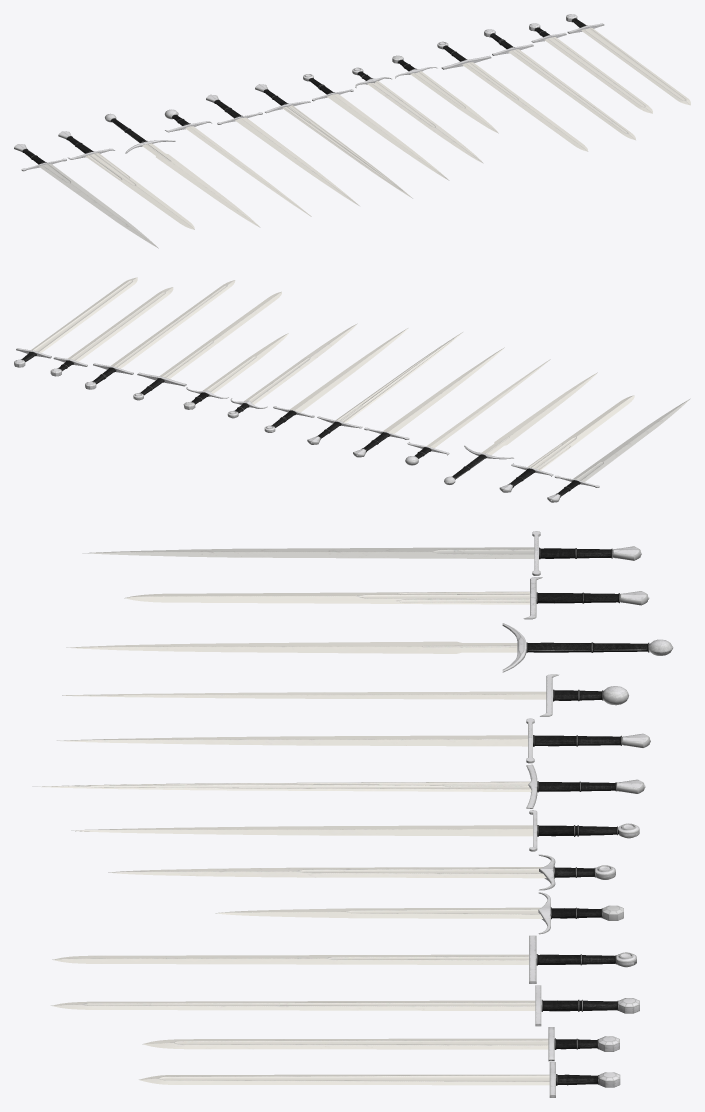
File: medieval_sword_pack.glb
3 views of the same model, one above another, from view 1: azimuth 30°, elevation 25°; view 2: azimuth 150°, elevation 25°; view 3: azimuth 270°, elevation 25° (orthographic). The views are drawn at different scales.
Visible parts, largest first — view 1: Type XIIIA_Type_Xiiia_Texture_0, Type XIIA_Type_Xiia_Texture_0, Type XX_Type_Xx_Texture_0, Type XVIIIE_Type_Xviiie_Texture_0, Type XXA_Type_XxaTexture_0, Type XVIIIB_Type_Xviiib_Texture_0, Type XA_Type_Xa_Texture_0, Type X_Type_X_Texture_0, Type XVII_Type_Xvii_Texture_0, Type XVA_Type_Xva_Texture_0, Type XV_Type_Xv_Texture_0, Type XVIIID_Type_Xviiid_Texture_0 (+1 smaller); view 2: Type XIIIA_Type_Xiiia_Texture_0, Type XIIA_Type_Xiia_Texture_0, Type XX_Type_Xx_Texture_0, Type XVIIIE_Type_Xviiie_Texture_0, Type XXA_Type_XxaTexture_0, Type XVIIIB_Type_Xviiib_Texture_0, Type X_Type_X_Texture_0, Type XA_Type_Xa_Texture_0, Type XVII_Type_Xvii_Texture_0, Type XVA_Type_Xva_Texture_0, Type XV_Type_Xv_Texture_0, Type XVIIID_Type_Xviiid_Texture_0 (+1 smaller); view 3: Type XVIIIE_Type_Xviiie_Texture_0, Type XIIA_Type_Xiia_Texture_0, Type XIIIA_Type_Xiiia_Texture_0, Type XX_Type_Xx_Texture_0, Type XVIIIB_Type_Xviiib_Texture_0, Type XXA_Type_XxaTexture_0, Type XA_Type_Xa_Texture_0, Type X_Type_X_Texture_0, Type XVA_Type_Xva_Texture_0, Type XVII_Type_Xvii_Texture_0, Type XV_Type_Xv_Texture_0, Type XVIIID_Type_Xviiid_Texture_0 (+1 smaller).
Part boxes in pixels (x1,y1,x2,y2): Type XIIIA_Type_Xiiia_Texture_0: (437,41,588,151); Type XIIA_Type_Xiia_Texture_0: (484,29,635,140); Type XX_Type_Xx_Texture_0: (58,131,194,229); Type XVIIIE_Type_Xviiie_Texture_0: (105,113,260,227); Type XXA_Type_XxaTexture_0: (14,144,158,248); Type XVIIIB_Type_Xviiib_Texture_0: (206,94,359,205); Type XA_Type_Xa_Texture_0: (529,23,652,113); Type X_Type_X_Texture_0: (566,14,690,105); Type XVII_Type_Xvii_Texture_0: (255,84,412,198); Type XVA_Type_Xva_Texture_0: (303,74,449,180); Type XV_Type_Xv_Texture_0: (352,67,483,163); Type XVIIID_Type_Xviiid_Texture_0: (164,109,311,216); Type XIIIA_Type_Xiiia_Texture_0: (133,291,281,400); Type XIIA_Type_Xiia_Texture_0: (85,280,235,389); Type XX_Type_Xx_Texture_0: (499,395,634,492); Type XVIIIE_Type_Xviiie_Texture_0: (444,372,597,484); Type XXA_Type_XxaTexture_0: (547,398,690,502); Type XVIIIB_Type_Xviiib_Texture_0: (353,347,504,457); Type X_Type_X_Texture_0: (14,277,137,367); Type XA_Type_Xa_Texture_0: (50,287,173,376); Type XVII_Type_Xvii_Texture_0: (307,332,462,444); Type XVA_Type_Xva_Texture_0: (264,328,408,432); Type XV_Type_Xv_Texture_0: (227,323,357,418); Type XVIIID_Type_Xviiid_Texture_0: (405,359,550,465); Type XVIIIE_Type_Xviiie_Texture_0: (66,623,673,672); Type XIIA_Type_Xiia_Texture_0: (51,985,639,1026); Type XIIIA_Type_Xiiia_Texture_0: (52,935,636,983); Type XX_Type_Xx_Texture_0: (124,577,649,619); Type XVIIIB_Type_Xviiib_Texture_0: (57,718,650,763); Type XXA_Type_XxaTexture_0: (82,531,641,575); Type XA_Type_Xa_Texture_0: (142,1027,619,1061); Type X_Type_X_Texture_0: (139,1062,620,1097); Type XVA_Type_Xva_Texture_0: (71,810,639,851); Type XVII_Type_Xvii_Texture_0: (32,764,645,808); Type XV_Type_Xv_Texture_0: (108,854,615,890); Type XVIIID_Type_Xviiid_Texture_0: (62,674,628,716).
Size of the model in its own units: 2.72 by 0.0349 by 1.31.
13 materials, 13 textured.
